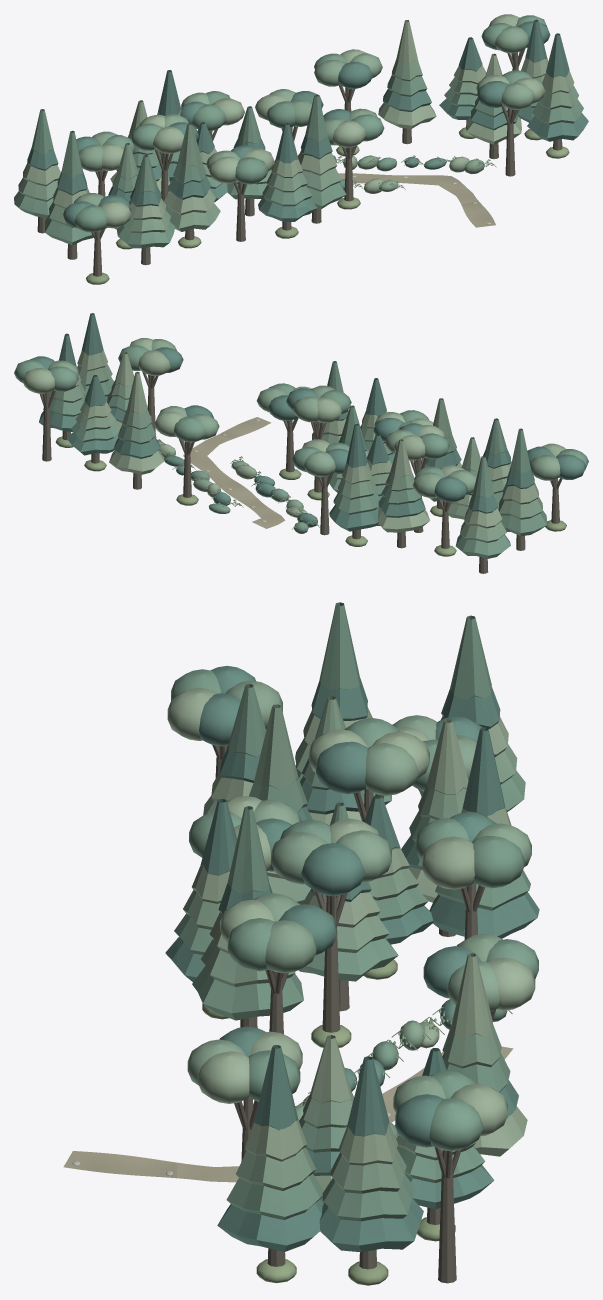
File: village-northwood-edge.glb
3 renders of one model, top to bottom at view 1: azimuth 30°, elevation 25°; view 2: azimuth 150°, elevation 25°; view 3: azimuth 270°, elevation 25°, orthographic. The views are drawn at different scales.
Parts seen in each view (by area): view 1: Forest hamlet; view 2: Forest hamlet; view 3: Forest hamlet.
Part boxes in pixels (x1,y1,x2,y2): Forest hamlet: (14, 14, 588, 284); Forest hamlet: (14, 313, 588, 573); Forest hamlet: (63, 602, 539, 1285).
Bounding box in the file's own units: 32.66 × 7.47 × 13.14.
9 materials, 9 textured.
